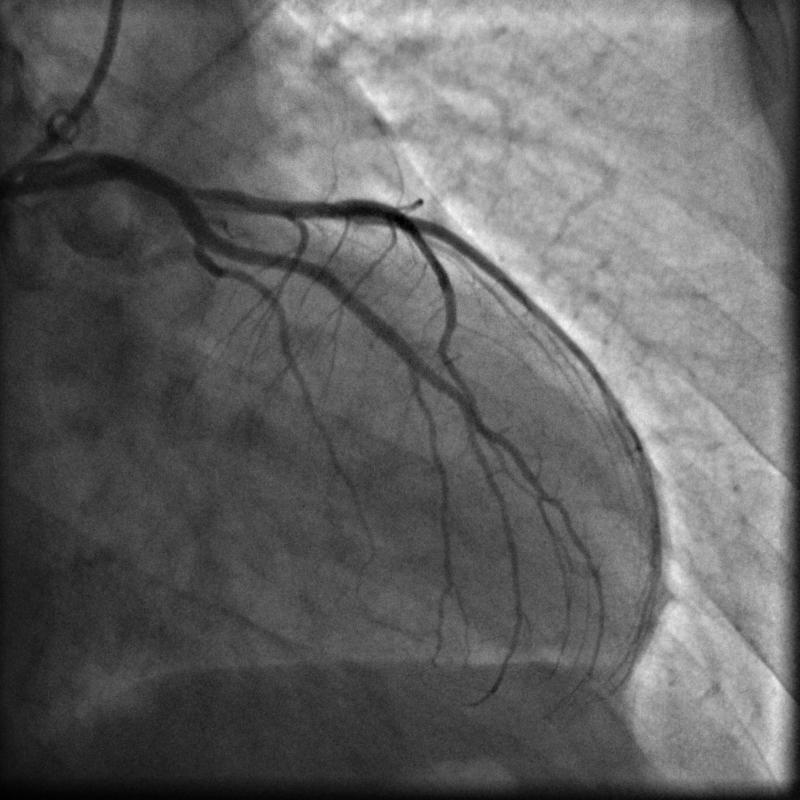Stenosis: (178, 177, 222, 214)
